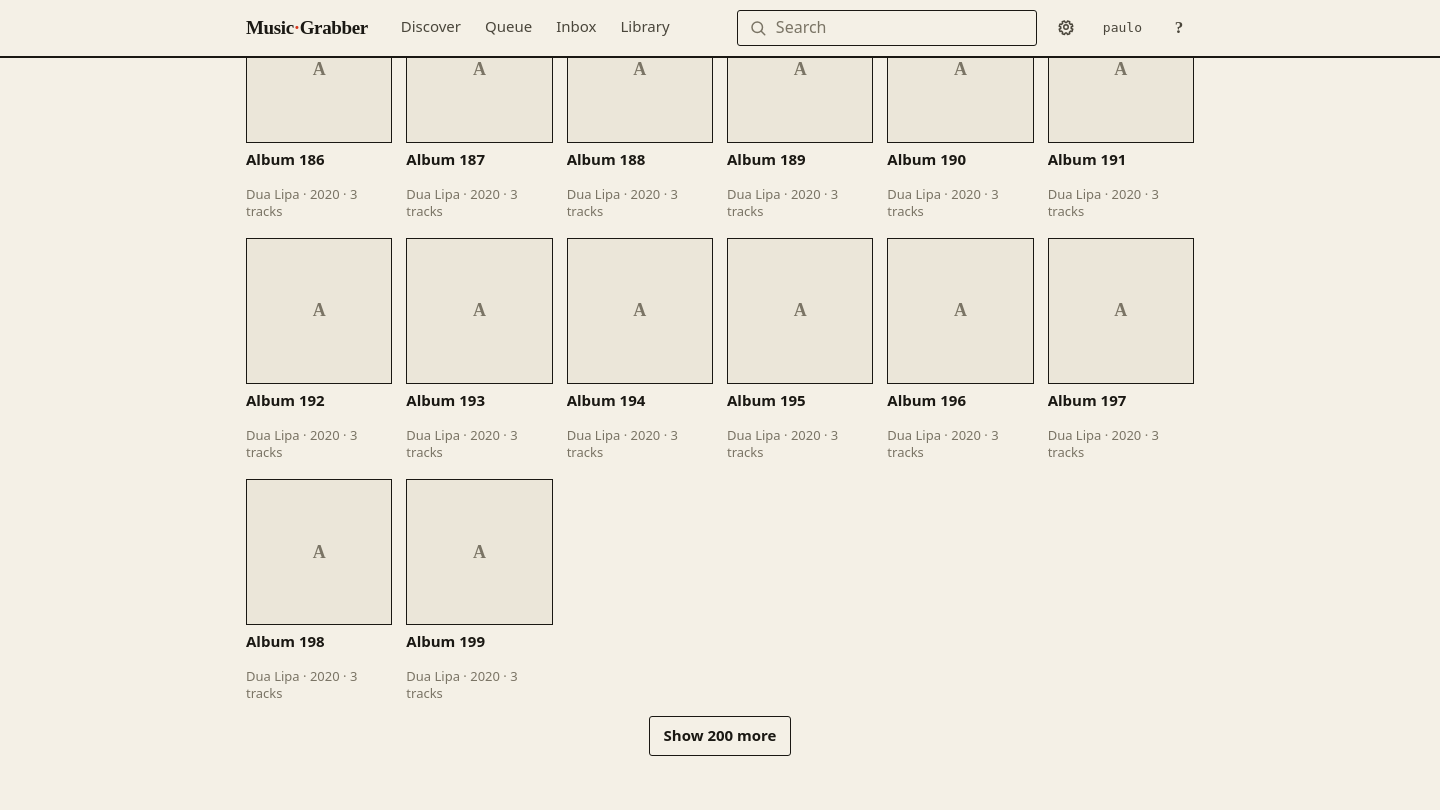
Test: library browser › the albums list pages through a big library client-side
(page scrolled)
What coordinates should you click on to do the following:
click the button "Show 200 more"
I would click on:
 (720, 736)
Its box is [648,716,791,756].
(page scrolled)
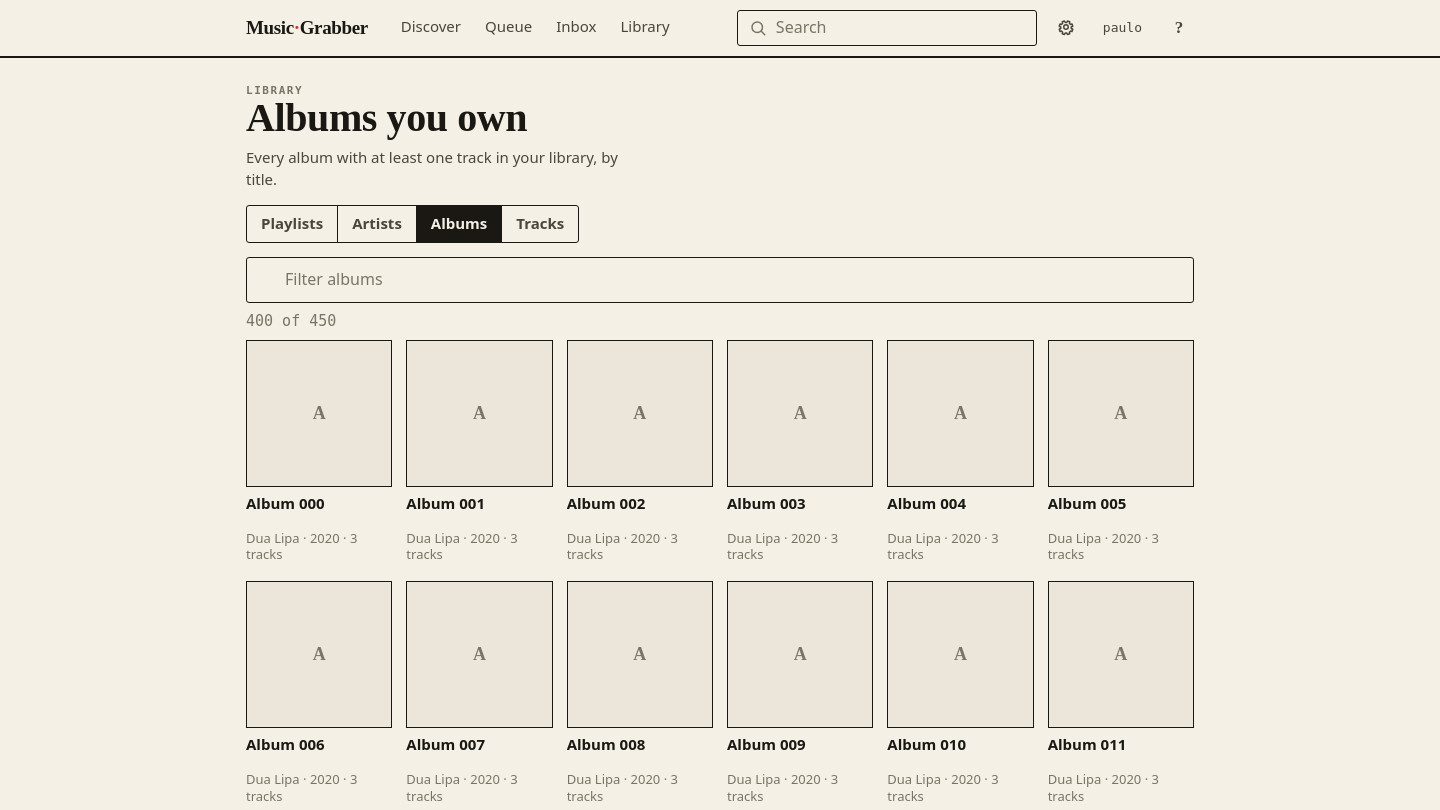
Now the text "400 of 450" is shown, box [246,312,336,330]
